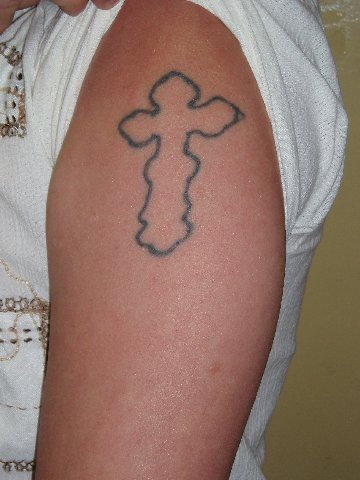tatu9_krest: (122, 57, 249, 260)
